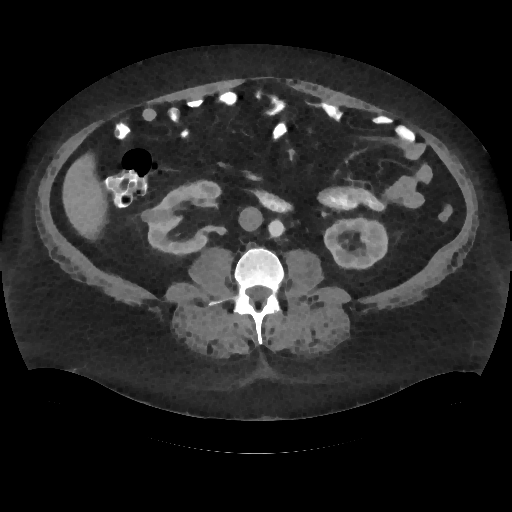Lesion: (138, 209, 156, 225)
